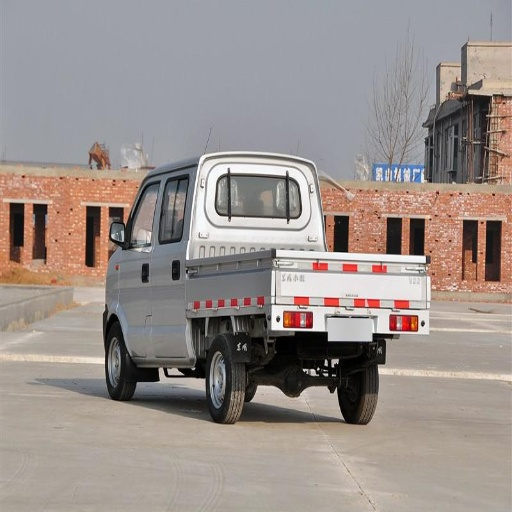trunk: (121, 220, 362, 368)
